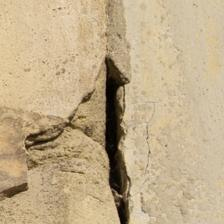Crack: (31, 0, 123, 121), (13, 13, 89, 125)
